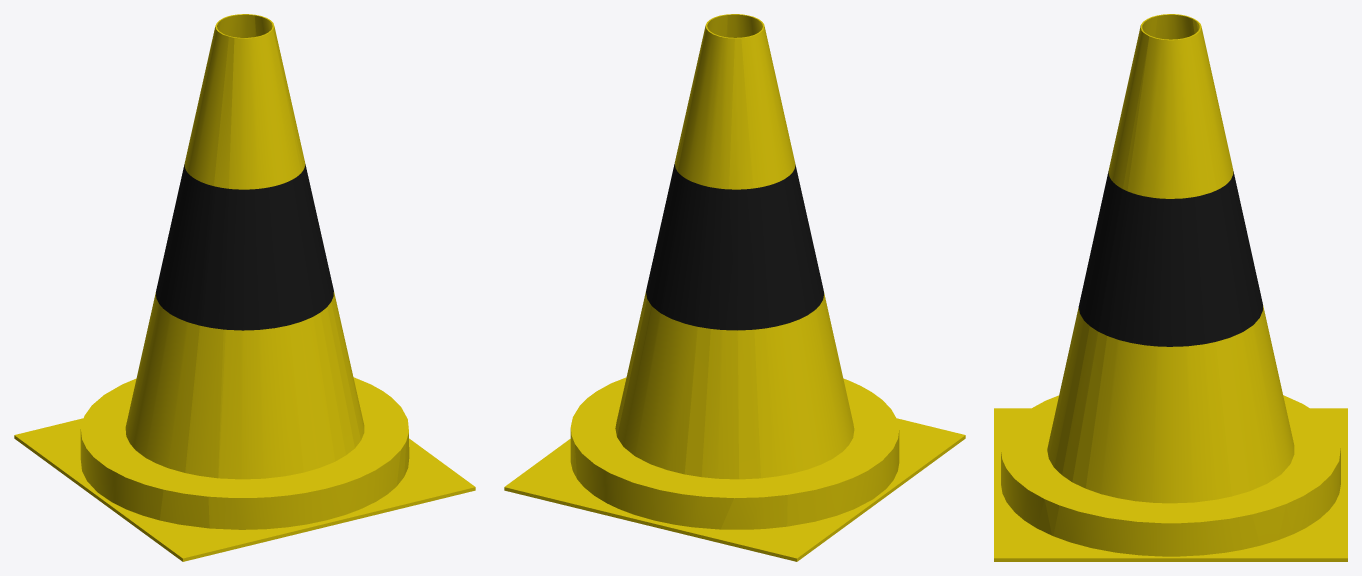
File: yellow.glb
3 renders of one model, left to right at view 1: azimuth 30°, elevation 25°; view 2: azimuth 150°, elevation 25°; view 3: azimuth 270°, elevation 25°, orthographic. The views are drawn at different scales.
Visible parts, largest first — view 1: Cone_Blue.001, Cone_Blue.002; view 2: Cone_Blue.001, Cone_Blue.002; view 3: Cone_Blue.001, Cone_Blue.002.
Boxes of the visible parts, box(x1,y1,x2,y2) form: Cone_Blue.001: box(14, 14, 475, 561); Cone_Blue.002: box(156, 164, 333, 330); Cone_Blue.001: box(504, 14, 965, 561); Cone_Blue.002: box(646, 164, 824, 330); Cone_Blue.001: box(994, 14, 1347, 561); Cone_Blue.002: box(1078, 171, 1262, 346).
Bounding box in the file's own units: 0.2235 × 0.3198 × 0.223.
